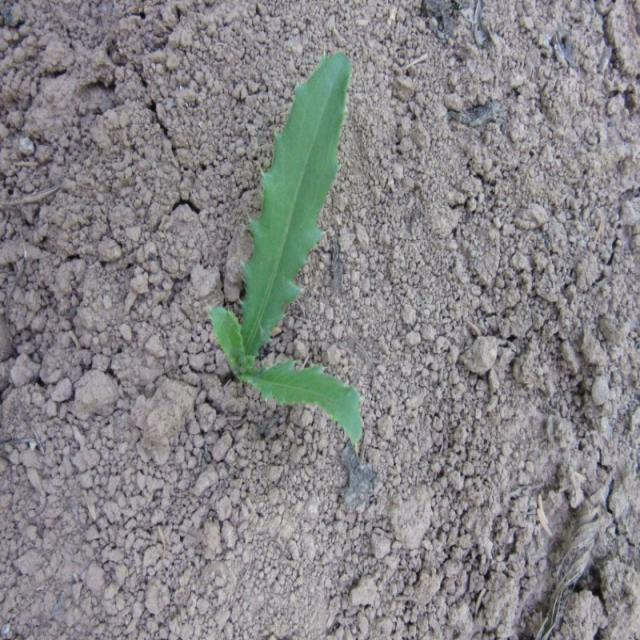field_thistle: (189, 28, 395, 474)
